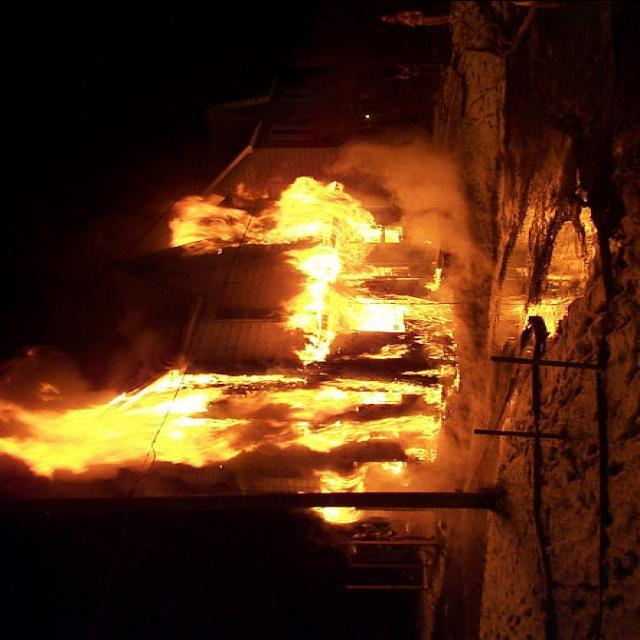Fire: (12, 155, 486, 502)
